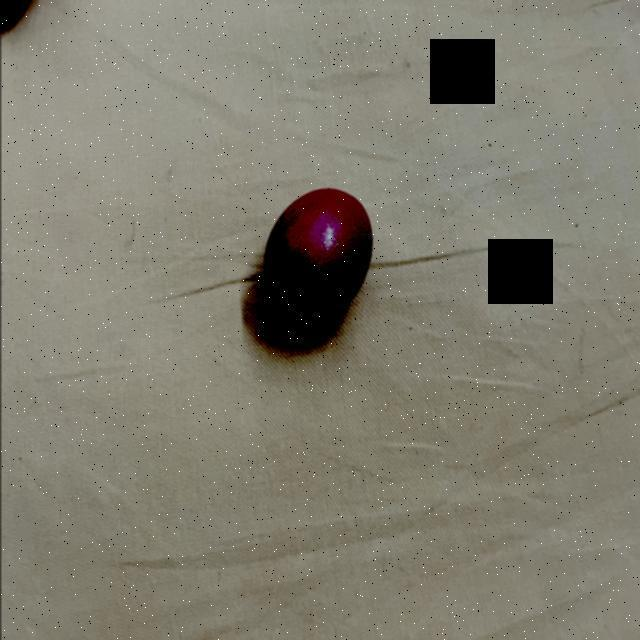egg: (262, 183, 376, 332)
